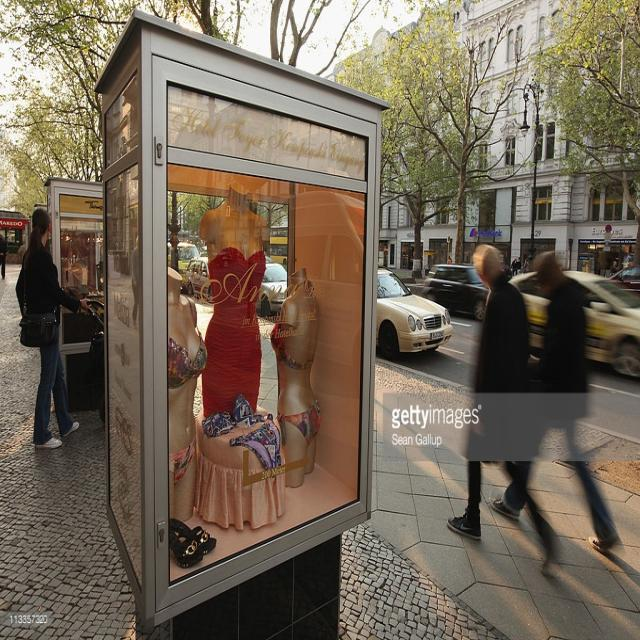body: (170, 184, 330, 522), (444, 240, 568, 582), (487, 248, 622, 558), (13, 205, 90, 450), (129, 230, 152, 328), (606, 250, 635, 282), (0, 232, 8, 280), (64, 255, 72, 283), (441, 252, 454, 269), (509, 257, 518, 279), (582, 257, 590, 275), (516, 256, 522, 276), (524, 259, 530, 273)
